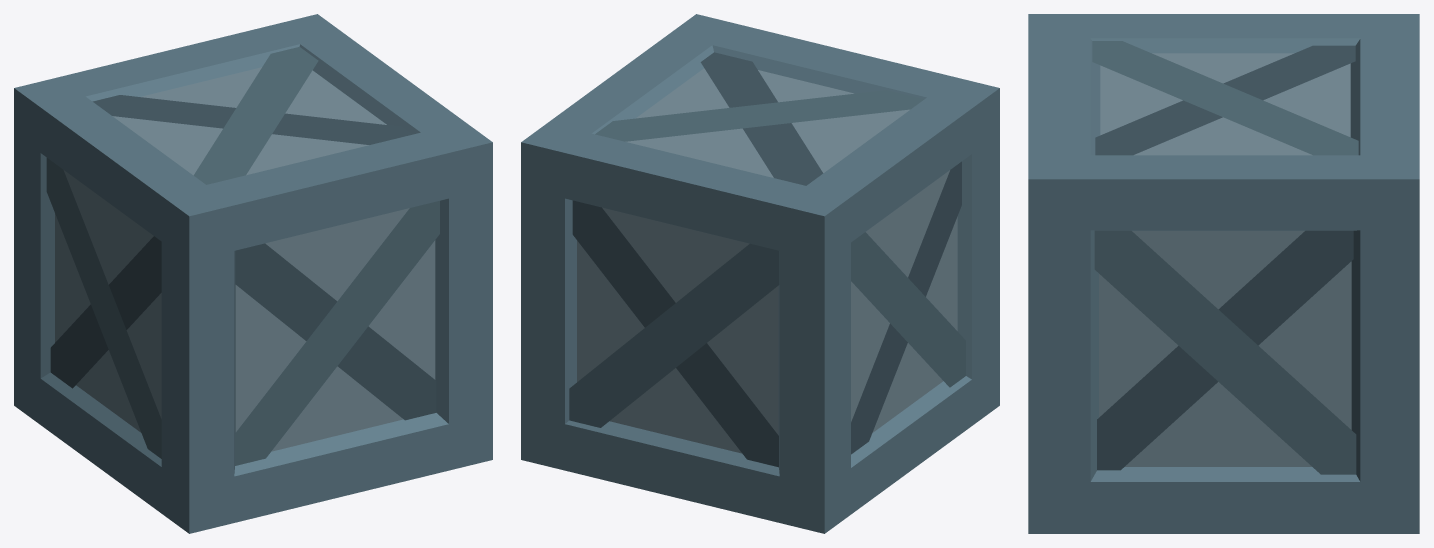
File: Ship_039.glb
3 views of the same model, side by side, from view 1: azimuth 30°, elevation 25°; view 2: azimuth 150°, elevation 25°; view 3: azimuth 270°, elevation 25° (orthographic). The views are drawn at different scales.
Parts seen in each view (by area): view 1: Ship_039; view 2: Ship_039; view 3: Ship_039.
Part boxes in pixels (left/top/right/bottom): Ship_039: left=14, top=14, right=492, bottom=533; Ship_039: left=521, top=14, right=999, bottom=533; Ship_039: left=1028, top=14, right=1419, bottom=533.
Bounding box in the file's own units: 0.6032 × 0.6033 × 0.6033.
Materials: 1 (1 with a texture image).
